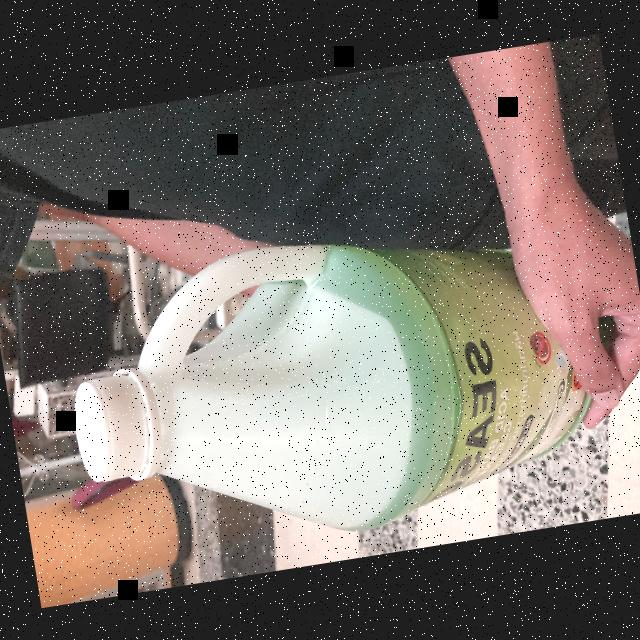chemical_plastic_gallon: (50, 202, 610, 574)
